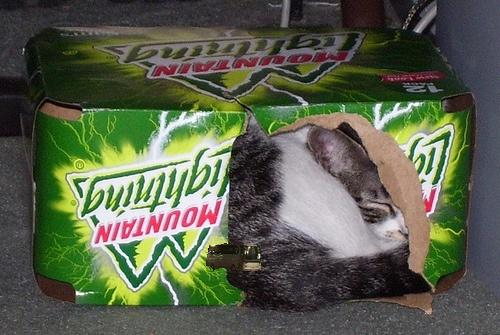tampered: (207, 244, 261, 271)
